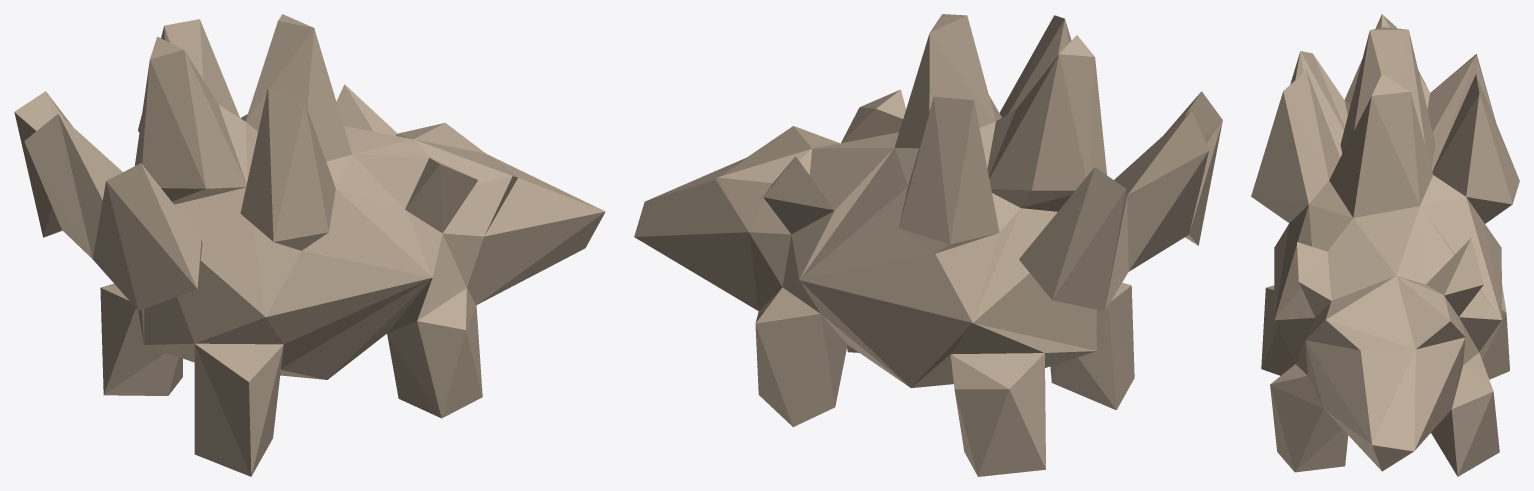
The picture shows the model from 3 angles, left to right: view 1: azimuth 30°, elevation 25°; view 2: azimuth 150°, elevation 25°; view 3: azimuth 270°, elevation 25°; orthographic projection. The views are drawn at different scales.
Visible parts, largest first — view 1: part0; view 2: part0; view 3: part0.
Boxes of the visible parts, x1,y1,x2,y2 form: part0: [14, 14, 605, 476]; part0: [634, 14, 1222, 476]; part0: [1251, 14, 1519, 476].
Size of the model in its own units: 3.03 by 1.96 by 1.42.
